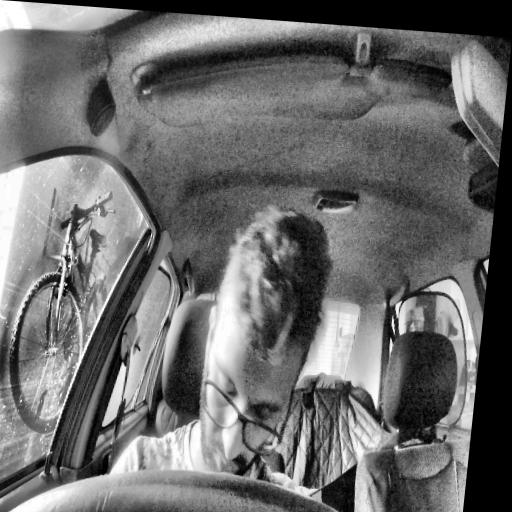drowsy: (189, 201, 338, 489)
